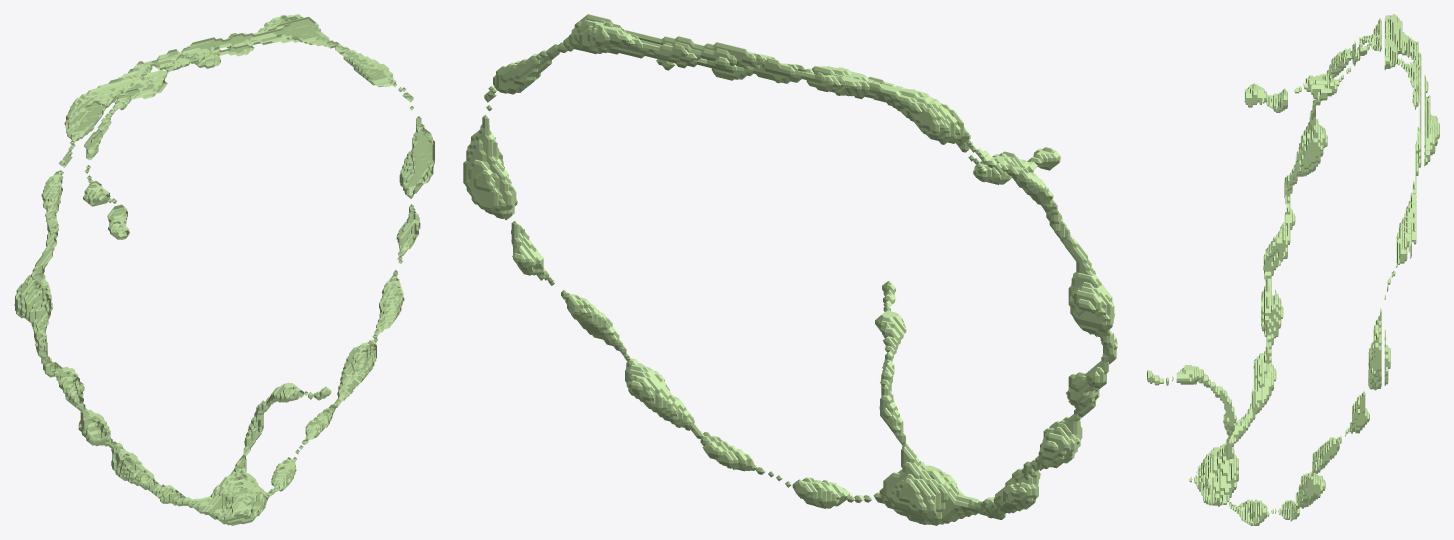
File: SVV_RIR.gltf
The picture shows the model from 3 angles, left to right: view 1: azimuth 30°, elevation 25°; view 2: azimuth 150°, elevation 25°; view 3: azimuth 270°, elevation 25°; orthographic projection. The views are drawn at different scales.
Visible parts, largest first — view 1: RIR; view 2: RIR; view 3: RIR.
Boxes of the visible parts, x1=… form: RIR: x1=14, y1=14, x2=434, y2=525; RIR: x1=463, y1=14, x2=1118, y2=525; RIR: x1=1147, y1=14, x2=1439, y2=525.
Size of the model in its own units: 96305 by 83509 by 48176.
